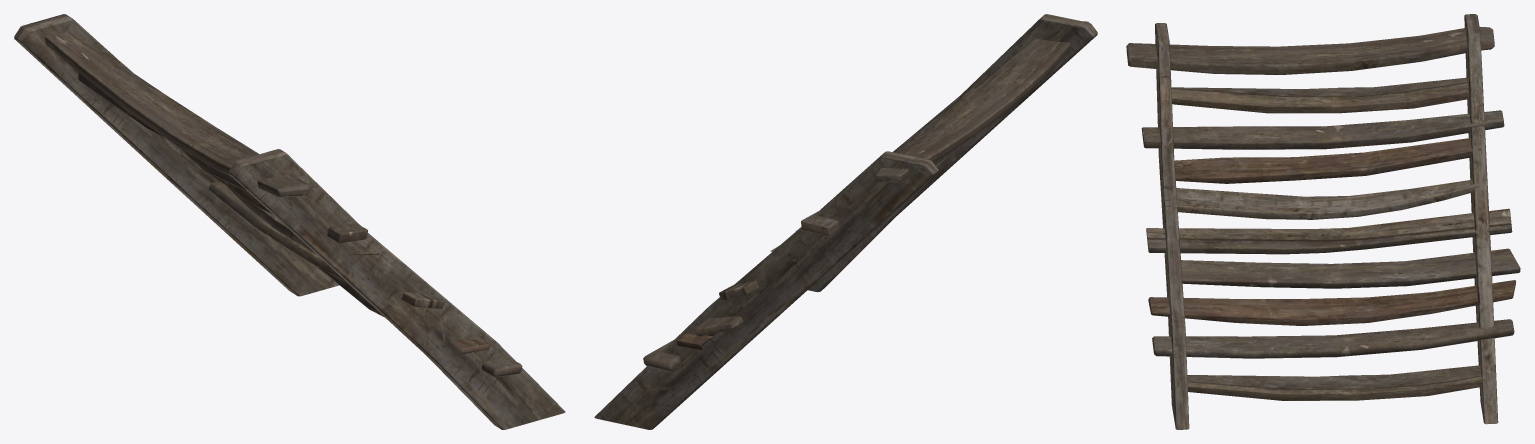
Rendered from Wooden_Stairs_02.glb.
3 views of the same model, side by side, from view 1: azimuth 30°, elevation 25°; view 2: azimuth 150°, elevation 25°; view 3: azimuth 270°, elevation 25° (orthographic). The views are drawn at different scales.
Parts seen in each view (by area): view 1: SM_Wooden_Stairs_02; view 2: SM_Wooden_Stairs_02; view 3: SM_Wooden_Stairs_02.
Part boxes in pixels (x1,y1,x2,y2): SM_Wooden_Stairs_02: (14, 14, 565, 429); SM_Wooden_Stairs_02: (594, 14, 1097, 429); SM_Wooden_Stairs_02: (1126, 14, 1520, 429).
Bounding box in the file's own units: 2.43 × 2.15 × 2.78.
1 material, 1 textured.
